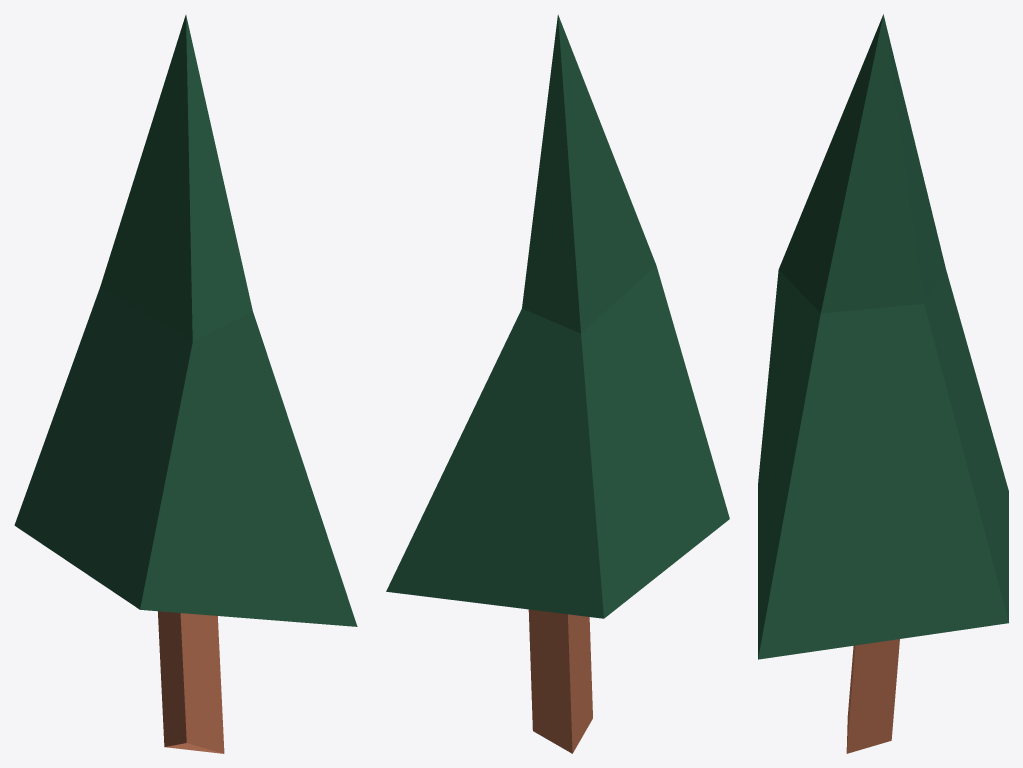
File: Pine 4.fbx
3 views of the same model, side by side, from view 1: azimuth 30°, elevation 25°; view 2: azimuth 150°, elevation 25°; view 3: azimuth 270°, elevation 25° (orthographic).
Visible parts, largest first — view 1: Pine 4; view 2: Pine 4; view 3: Pine 4.
Part boxes in pixels (x1,y1,x2,y2): Pine 4: (14,15,357,753); Pine 4: (386,14,729,753); Pine 4: (758,14,1008,753).
Bounding box in the file's own units: 80 × 257 × 80.
